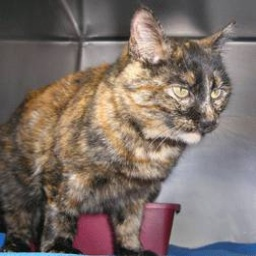cat: (3, 8, 233, 251)
